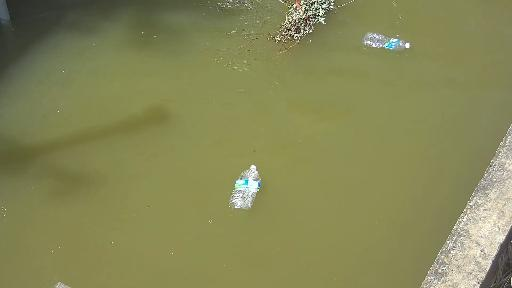plastic: (223, 166, 263, 215), (360, 28, 413, 55)
twig: (265, 0, 349, 55)
